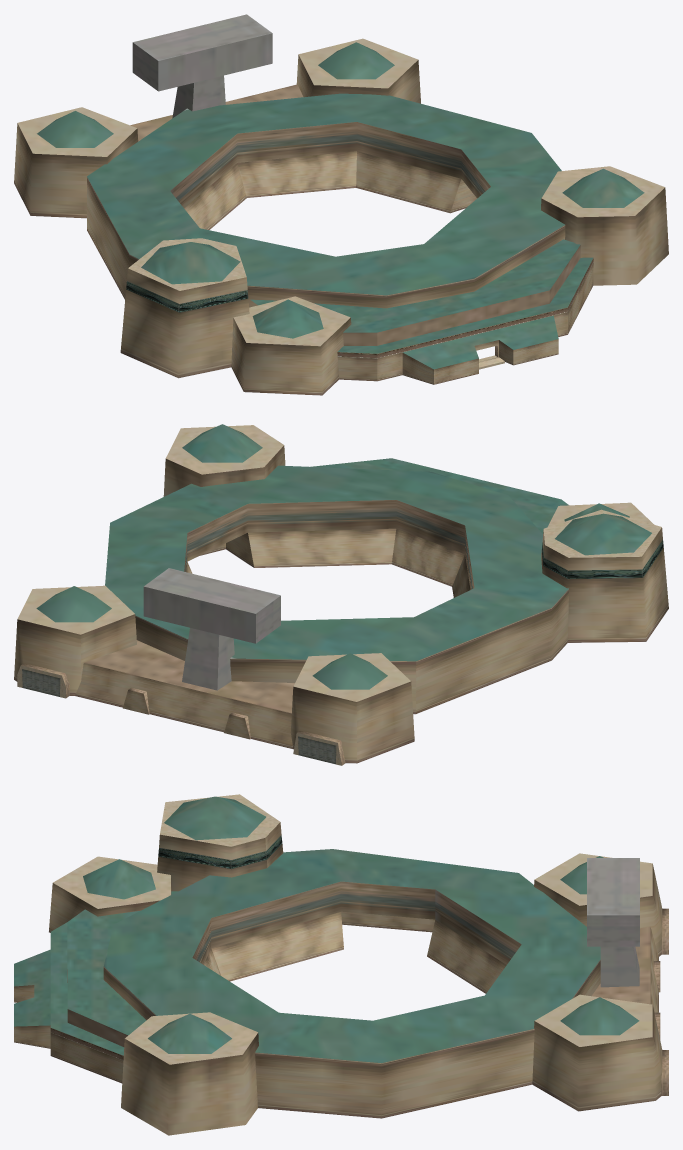
Rendered from mun_nboo_starport_s01_u01_r0_mesh_l5.fbx.
The picture shows the model from 3 angles, top to bottom: view 1: azimuth 30°, elevation 25°; view 2: azimuth 150°, elevation 25°; view 3: azimuth 270°, elevation 25°; orthographic projection. The views are drawn at different scales.
Parts seen in each view (by area): view 1: mesh_node; view 2: mesh_node; view 3: mesh_node.
Boxes of the visible parts, bbox=[...] form: mesh_node: bbox=[14, 14, 668, 395]; mesh_node: bbox=[14, 424, 668, 765]; mesh_node: bbox=[14, 794, 668, 1135].
Bounding box in the file's own units: 149 × 33.66 × 160.
Materials: 1 (1 with a texture image).
